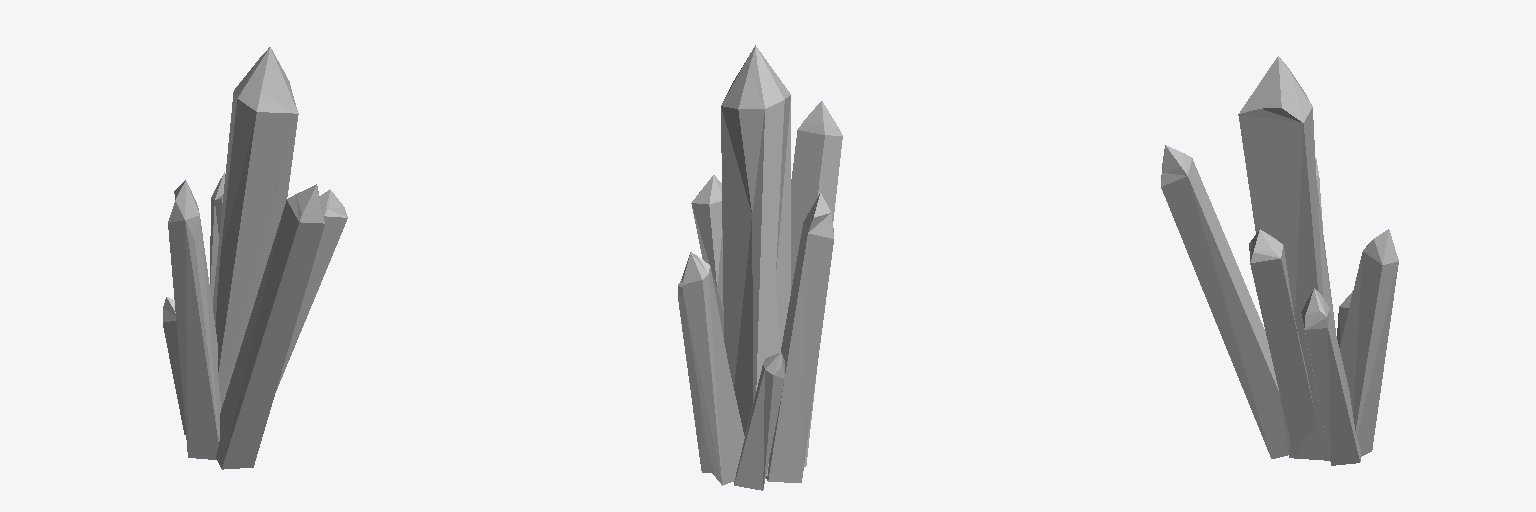
3 renders of one model, left to right at view 1: azimuth 30°, elevation 25°; view 2: azimuth 150°, elevation 25°; view 3: azimuth 270°, elevation 25°, orthographic.
Parts seen in each view (by area): view 1: group[number redacted], group[number redacted], group[number redacted], group[number redacted], group[number redacted], group[number redacted]; view 2: group[number redacted], group[number redacted], group[number redacted], group[number redacted], group[number redacted], group[number redacted], group[number redacted]; view 3: group[number redacted], group[number redacted], group[number redacted], group[number redacted], group[number redacted].
Part boxes in pixels (x1,y1,x2,y2): group[number redacted]: (213, 47, 298, 408); group[number redacted]: (216, 184, 324, 469); group[number redacted]: (168, 180, 220, 459); group[number redacted]: (276, 189, 347, 390); group[number redacted]: (163, 297, 185, 434); group[number redacted]: (210, 172, 224, 304); group[number redacted]: (721, 45, 790, 475); group[number redacted]: (766, 193, 833, 482); group[number redacted]: (682, 252, 744, 485); group[number redacted]: (791, 101, 842, 466); group[number redacted]: (734, 353, 784, 490); group[number redacted]: (691, 175, 723, 336); group[number redacted]: (678, 279, 714, 472); group[number redacted]: (1238, 56, 1335, 460); group[number redacted]: (1161, 145, 1287, 458); group[number redacted]: (1340, 229, 1398, 456); group[number redacted]: (1249, 229, 1316, 458); group[number redacted]: (1301, 288, 1360, 465).
Bounding box in the file's own units: 1.02 × 2.61 × 1.36.